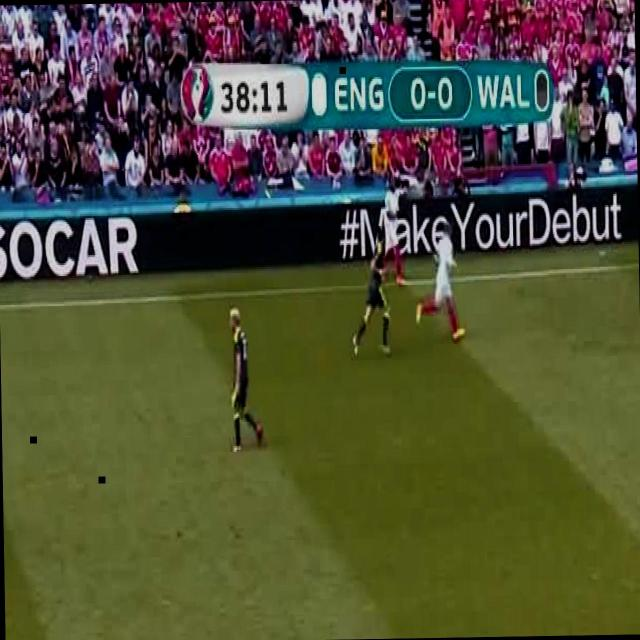ball: (391, 203, 398, 215)
player-white: (415, 221, 466, 343), (227, 307, 264, 455), (350, 242, 392, 358), (378, 176, 407, 285)
